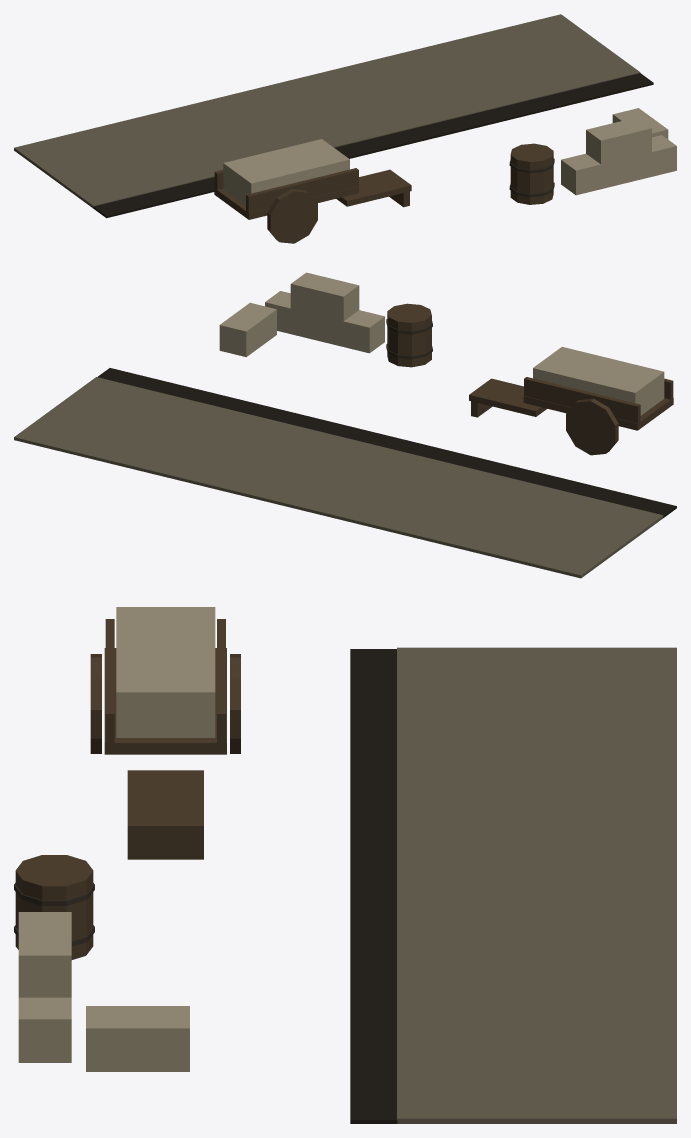
Rendered from DressingGateYard.fbx.
The picture shows the model from 3 angles, top to bottom: view 1: azimuth 30°, elevation 25°; view 2: azimuth 150°, elevation 25°; view 3: azimuth 270°, elevation 25°; orthographic projection. The views are drawn at different scales.
Visible parts, largest first — view 1: DressingGateYard; view 2: DressingGateYard; view 3: DressingGateYard.
Part boxes in pixels (box(x1,y1,x2,y2)): DressingGateYard: box(14, 14, 676, 243); DressingGateYard: box(14, 272, 676, 578); DressingGateYard: box(14, 607, 676, 1123).
Bounding box in the file's own units: 1202 × 135 × 715.
Materials: 5 (5 with a texture image).
